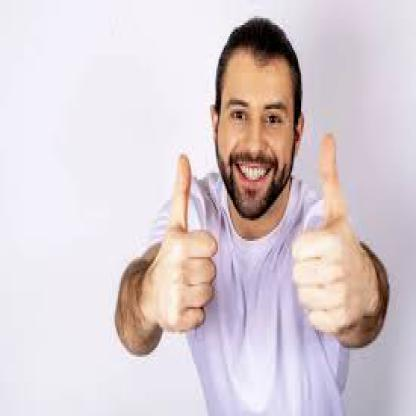Thumbs up: (154, 152, 209, 335)
